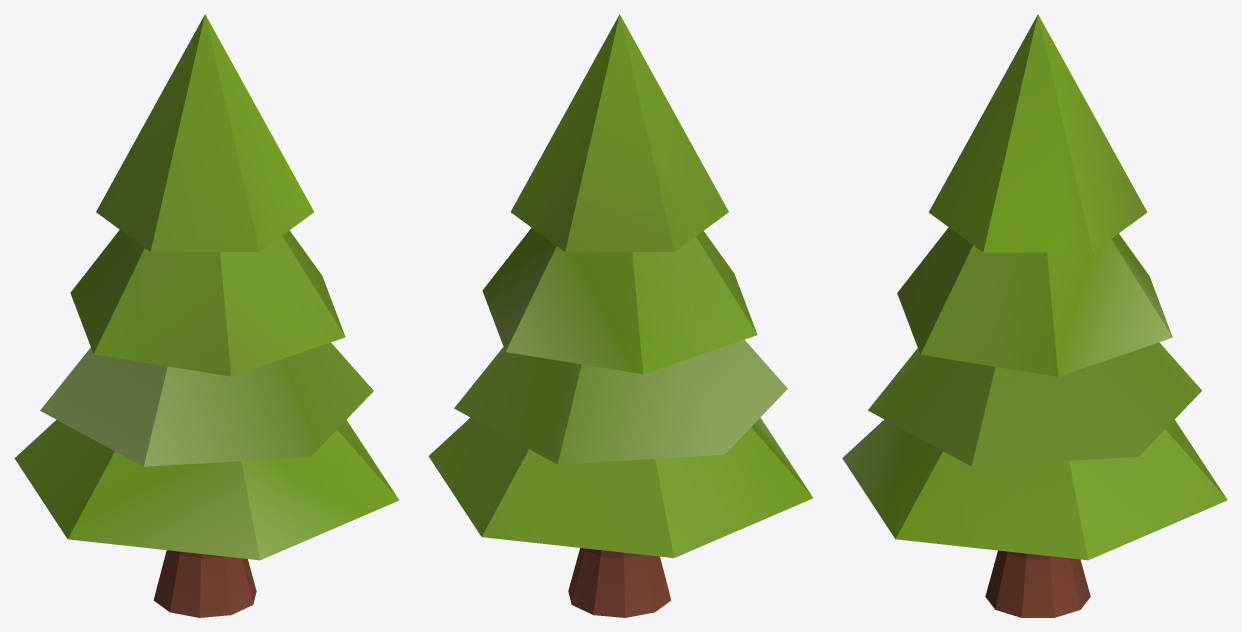
The model's file is sapin-7.glb.
The picture shows the model from 3 angles, left to right: view 1: azimuth 30°, elevation 25°; view 2: azimuth 150°, elevation 25°; view 3: azimuth 270°, elevation 25°; orthographic projection.
Parts seen in each view (by area): view 1: Pine_Tree_01; view 2: Pine_Tree_01; view 3: Pine_Tree_01.
Part boxes in pixels (x1,y1,x2,y2): Pine_Tree_01: (14,14,399,617); Pine_Tree_01: (428,14,812,617); Pine_Tree_01: (842,14,1227,617).
Size of the model in its own units: 3.51 by 5.87 by 3.52.
Materials: 1 (1 with a texture image).
